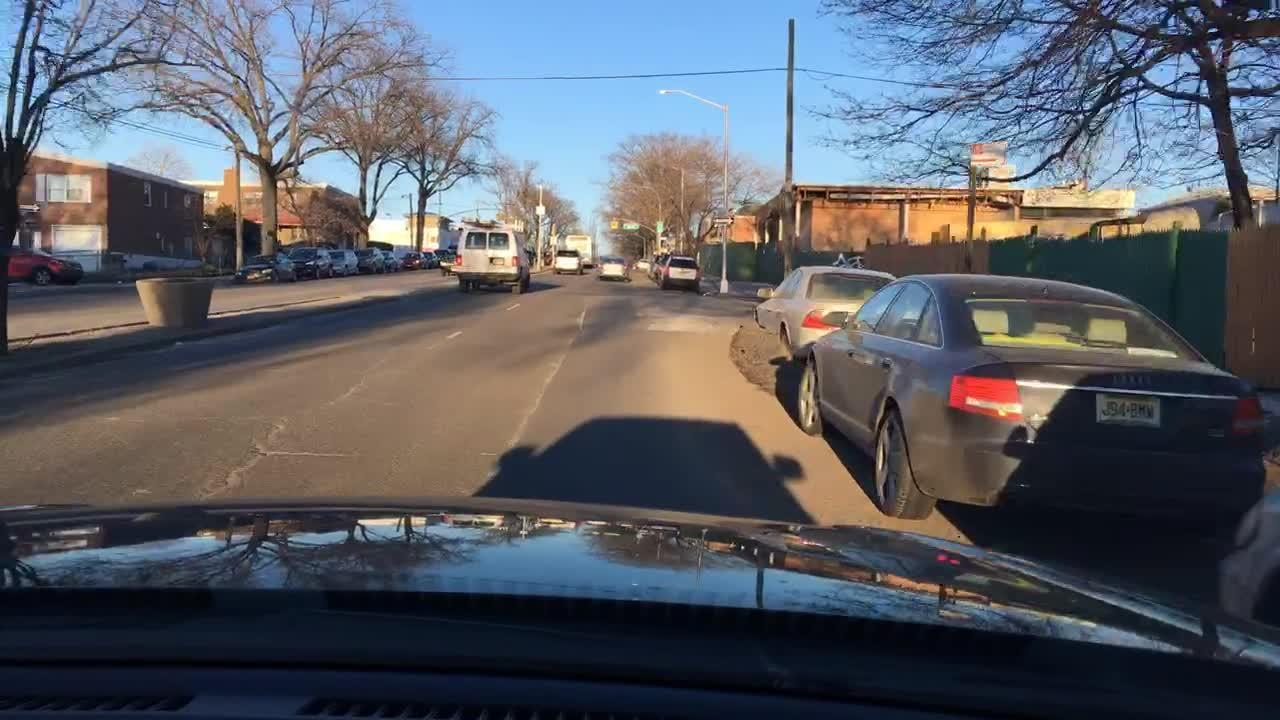Audi: (1101, 367, 1159, 394)
